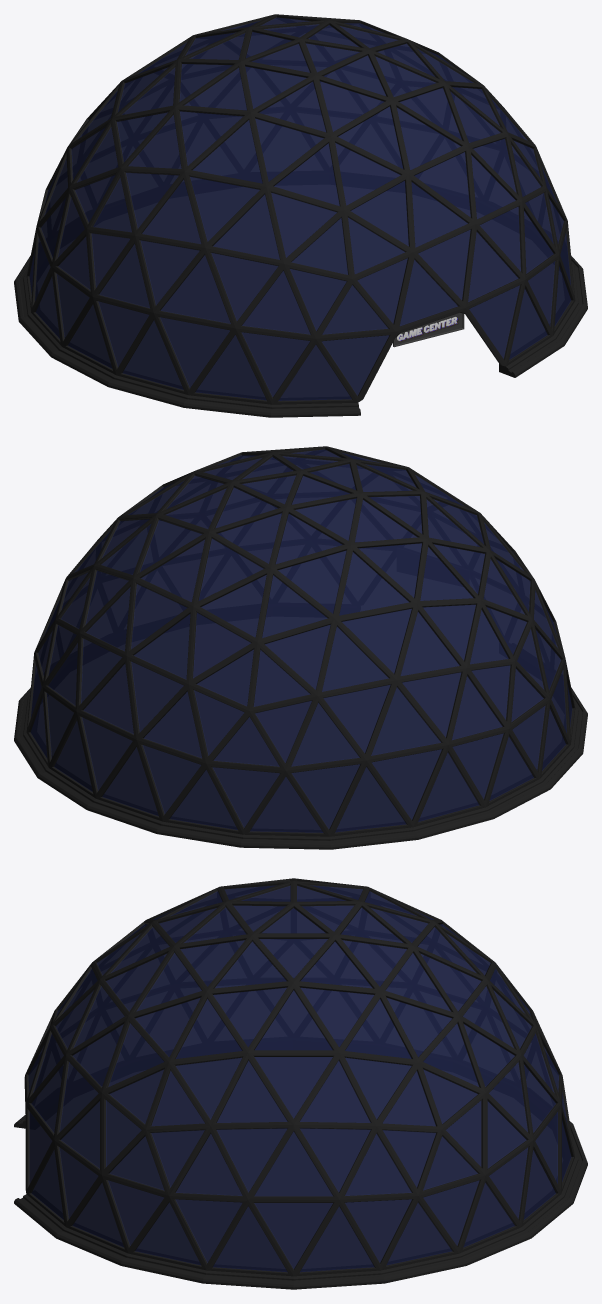
Rendered from dome_eng.glb.
3 views of the same model, one above another, from view 1: azimuth 30°, elevation 25°; view 2: azimuth 150°, elevation 25°; view 3: azimuth 270°, elevation 25° (orthographic).
Parts seen in each view (by area): view 1: Icosphere.002, bilgi_m_t; view 2: Icosphere.002; view 3: Icosphere.002.
Boxes of the visible parts, x1=… form: Icosphere.002: x1=14, y1=14, x2=587, y2=417; bilgi_m_t: x1=393, y1=312, x2=464, y2=347; Icosphere.002: x1=14, y1=446, x2=587, y2=849; Icosphere.002: x1=14, y1=878, x2=587, y2=1289.
Bounding box in the file's own units: 33.08 × 16.3 × 32.27.
5 materials, 1 textured.
